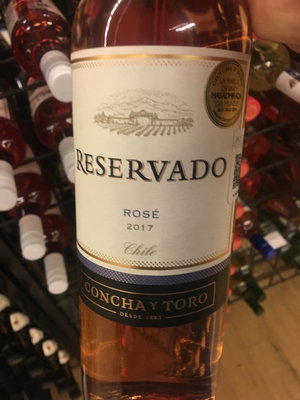reservado rose: (65, 4, 249, 400)
